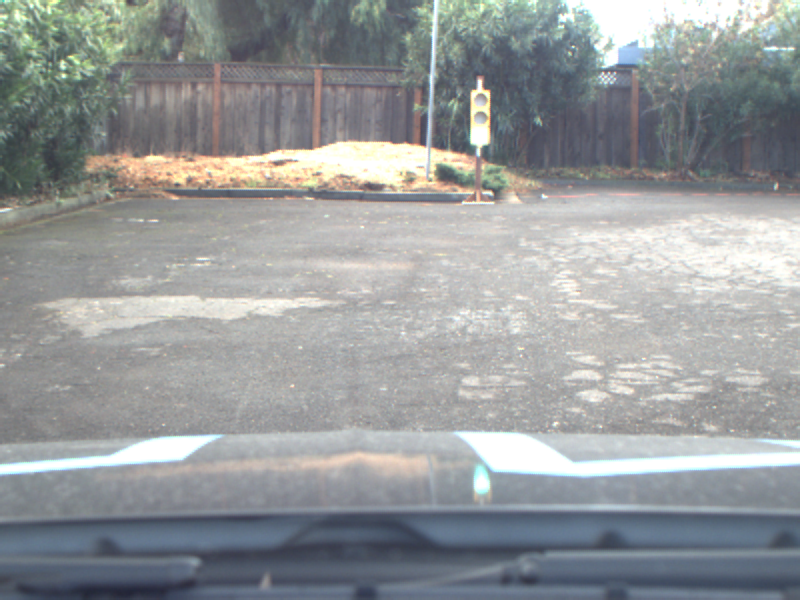Green: (470, 90, 490, 146)
